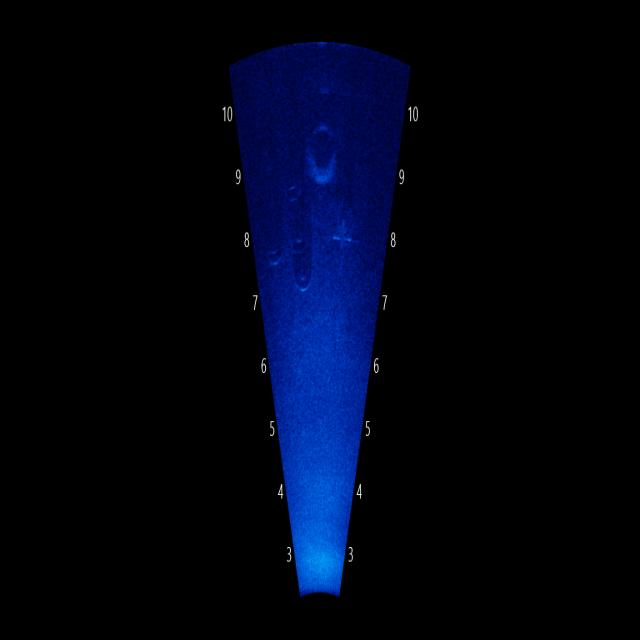circle: (302, 110, 346, 190), (278, 149, 308, 210), (288, 246, 317, 302), (259, 217, 288, 268)
